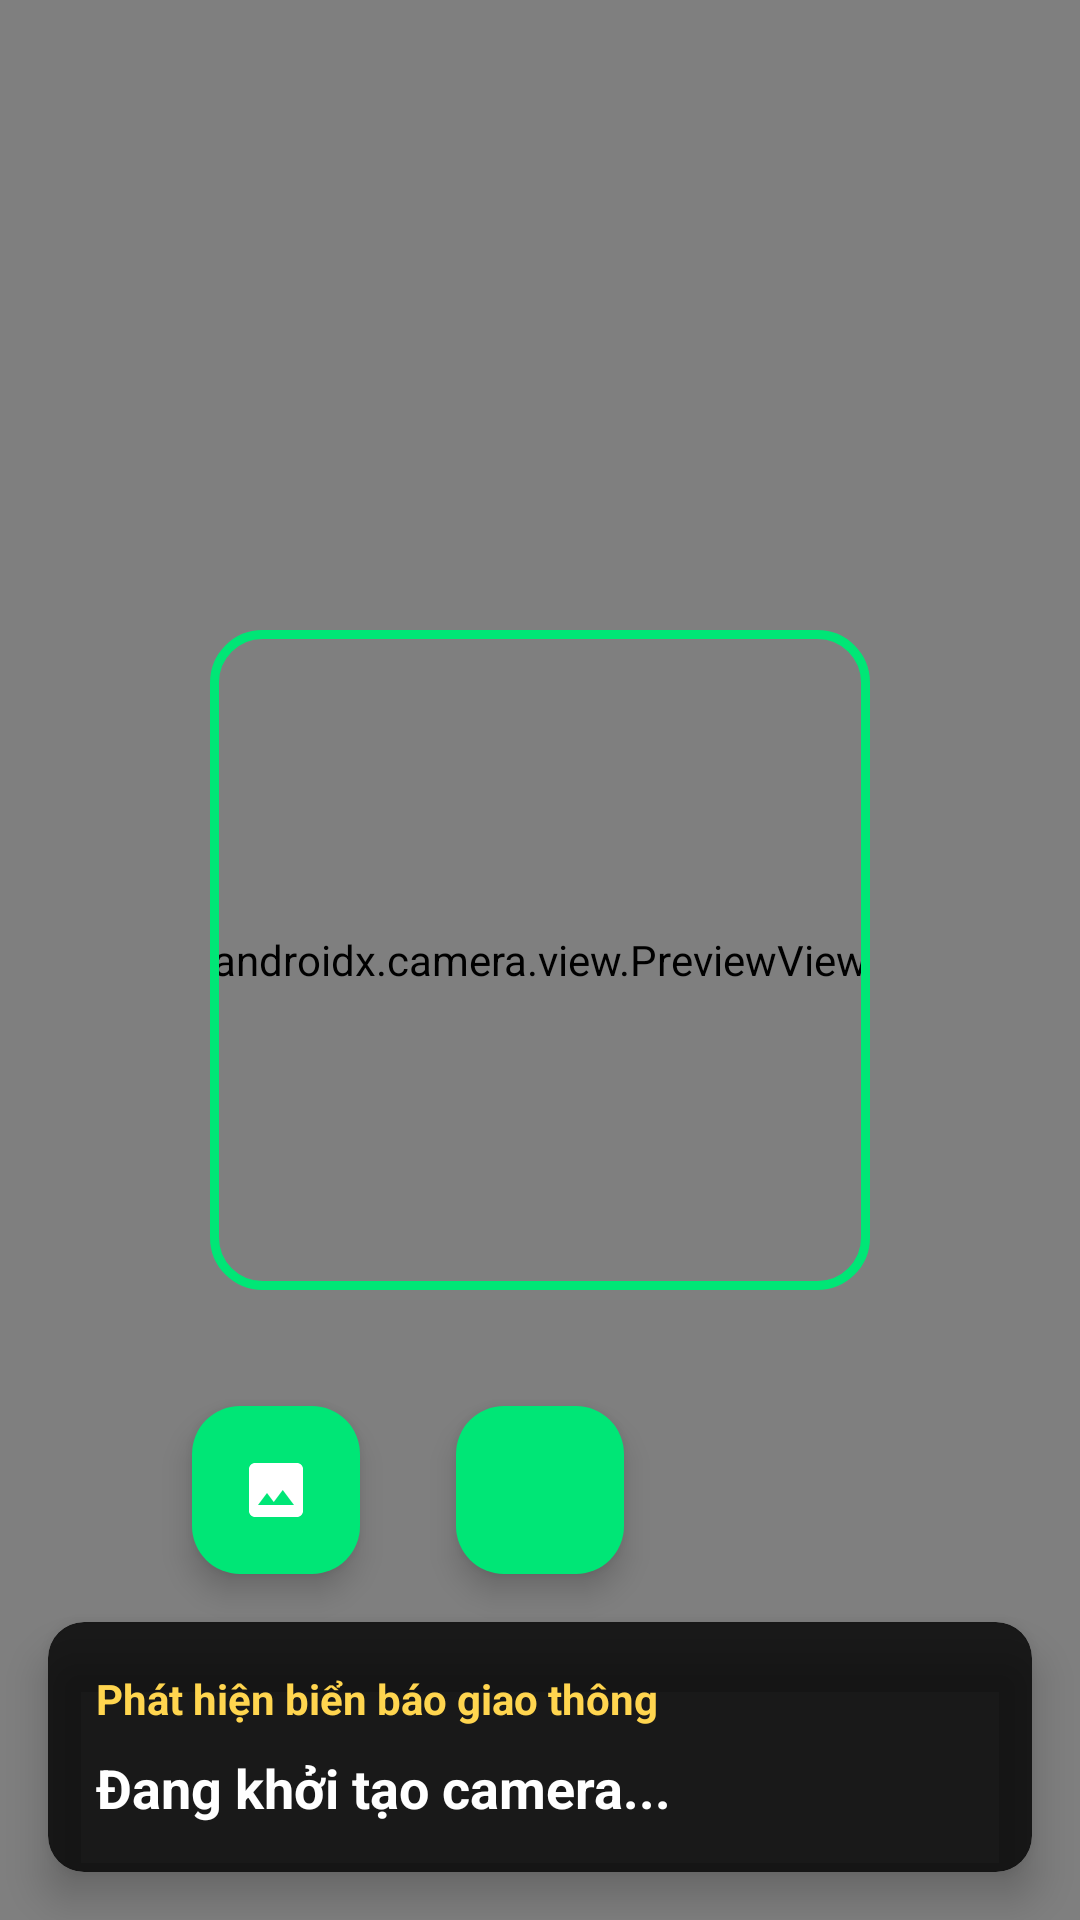

Icon click points for this 1080px x 1920px phone screenshot, format [x,y]:
Nút chọn ảnh từ thư viện: [276,1490]
